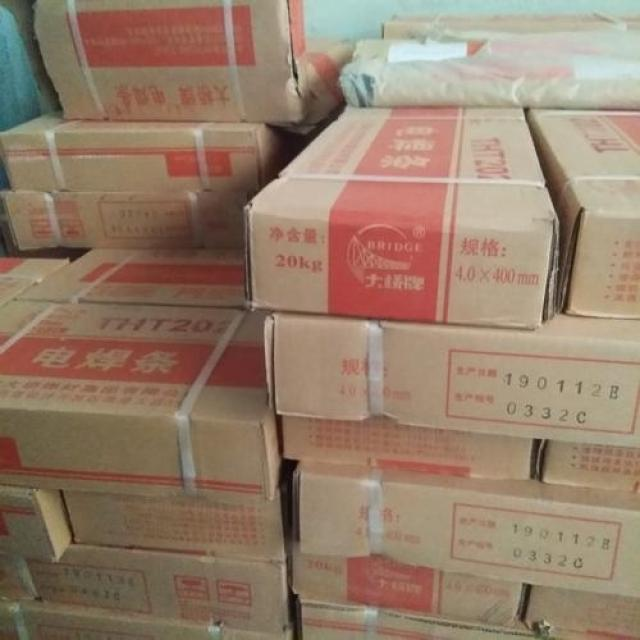box: (242, 108, 559, 330), (0, 298, 284, 506), (261, 314, 640, 449), (292, 460, 640, 600), (31, 0, 311, 123), (0, 108, 300, 193), (525, 109, 640, 320), (27, 544, 292, 634), (287, 539, 527, 628), (64, 485, 287, 563), (282, 416, 539, 480), (294, 595, 640, 640), (4, 189, 256, 250), (17, 248, 244, 307), (22, 603, 294, 639), (269, 37, 353, 134), (383, 12, 627, 38), (522, 586, 640, 639), (536, 439, 640, 495), (0, 484, 73, 563), (0, 247, 91, 282), (0, 554, 40, 602), (0, 276, 38, 308), (0, 602, 29, 639)
